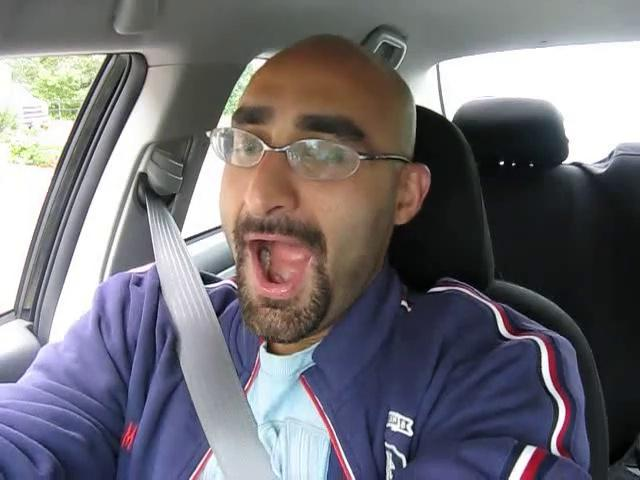close_eyeL: (216, 125, 278, 169)
close_eyeR: (285, 136, 372, 186)
yawn: (224, 214, 340, 311)
